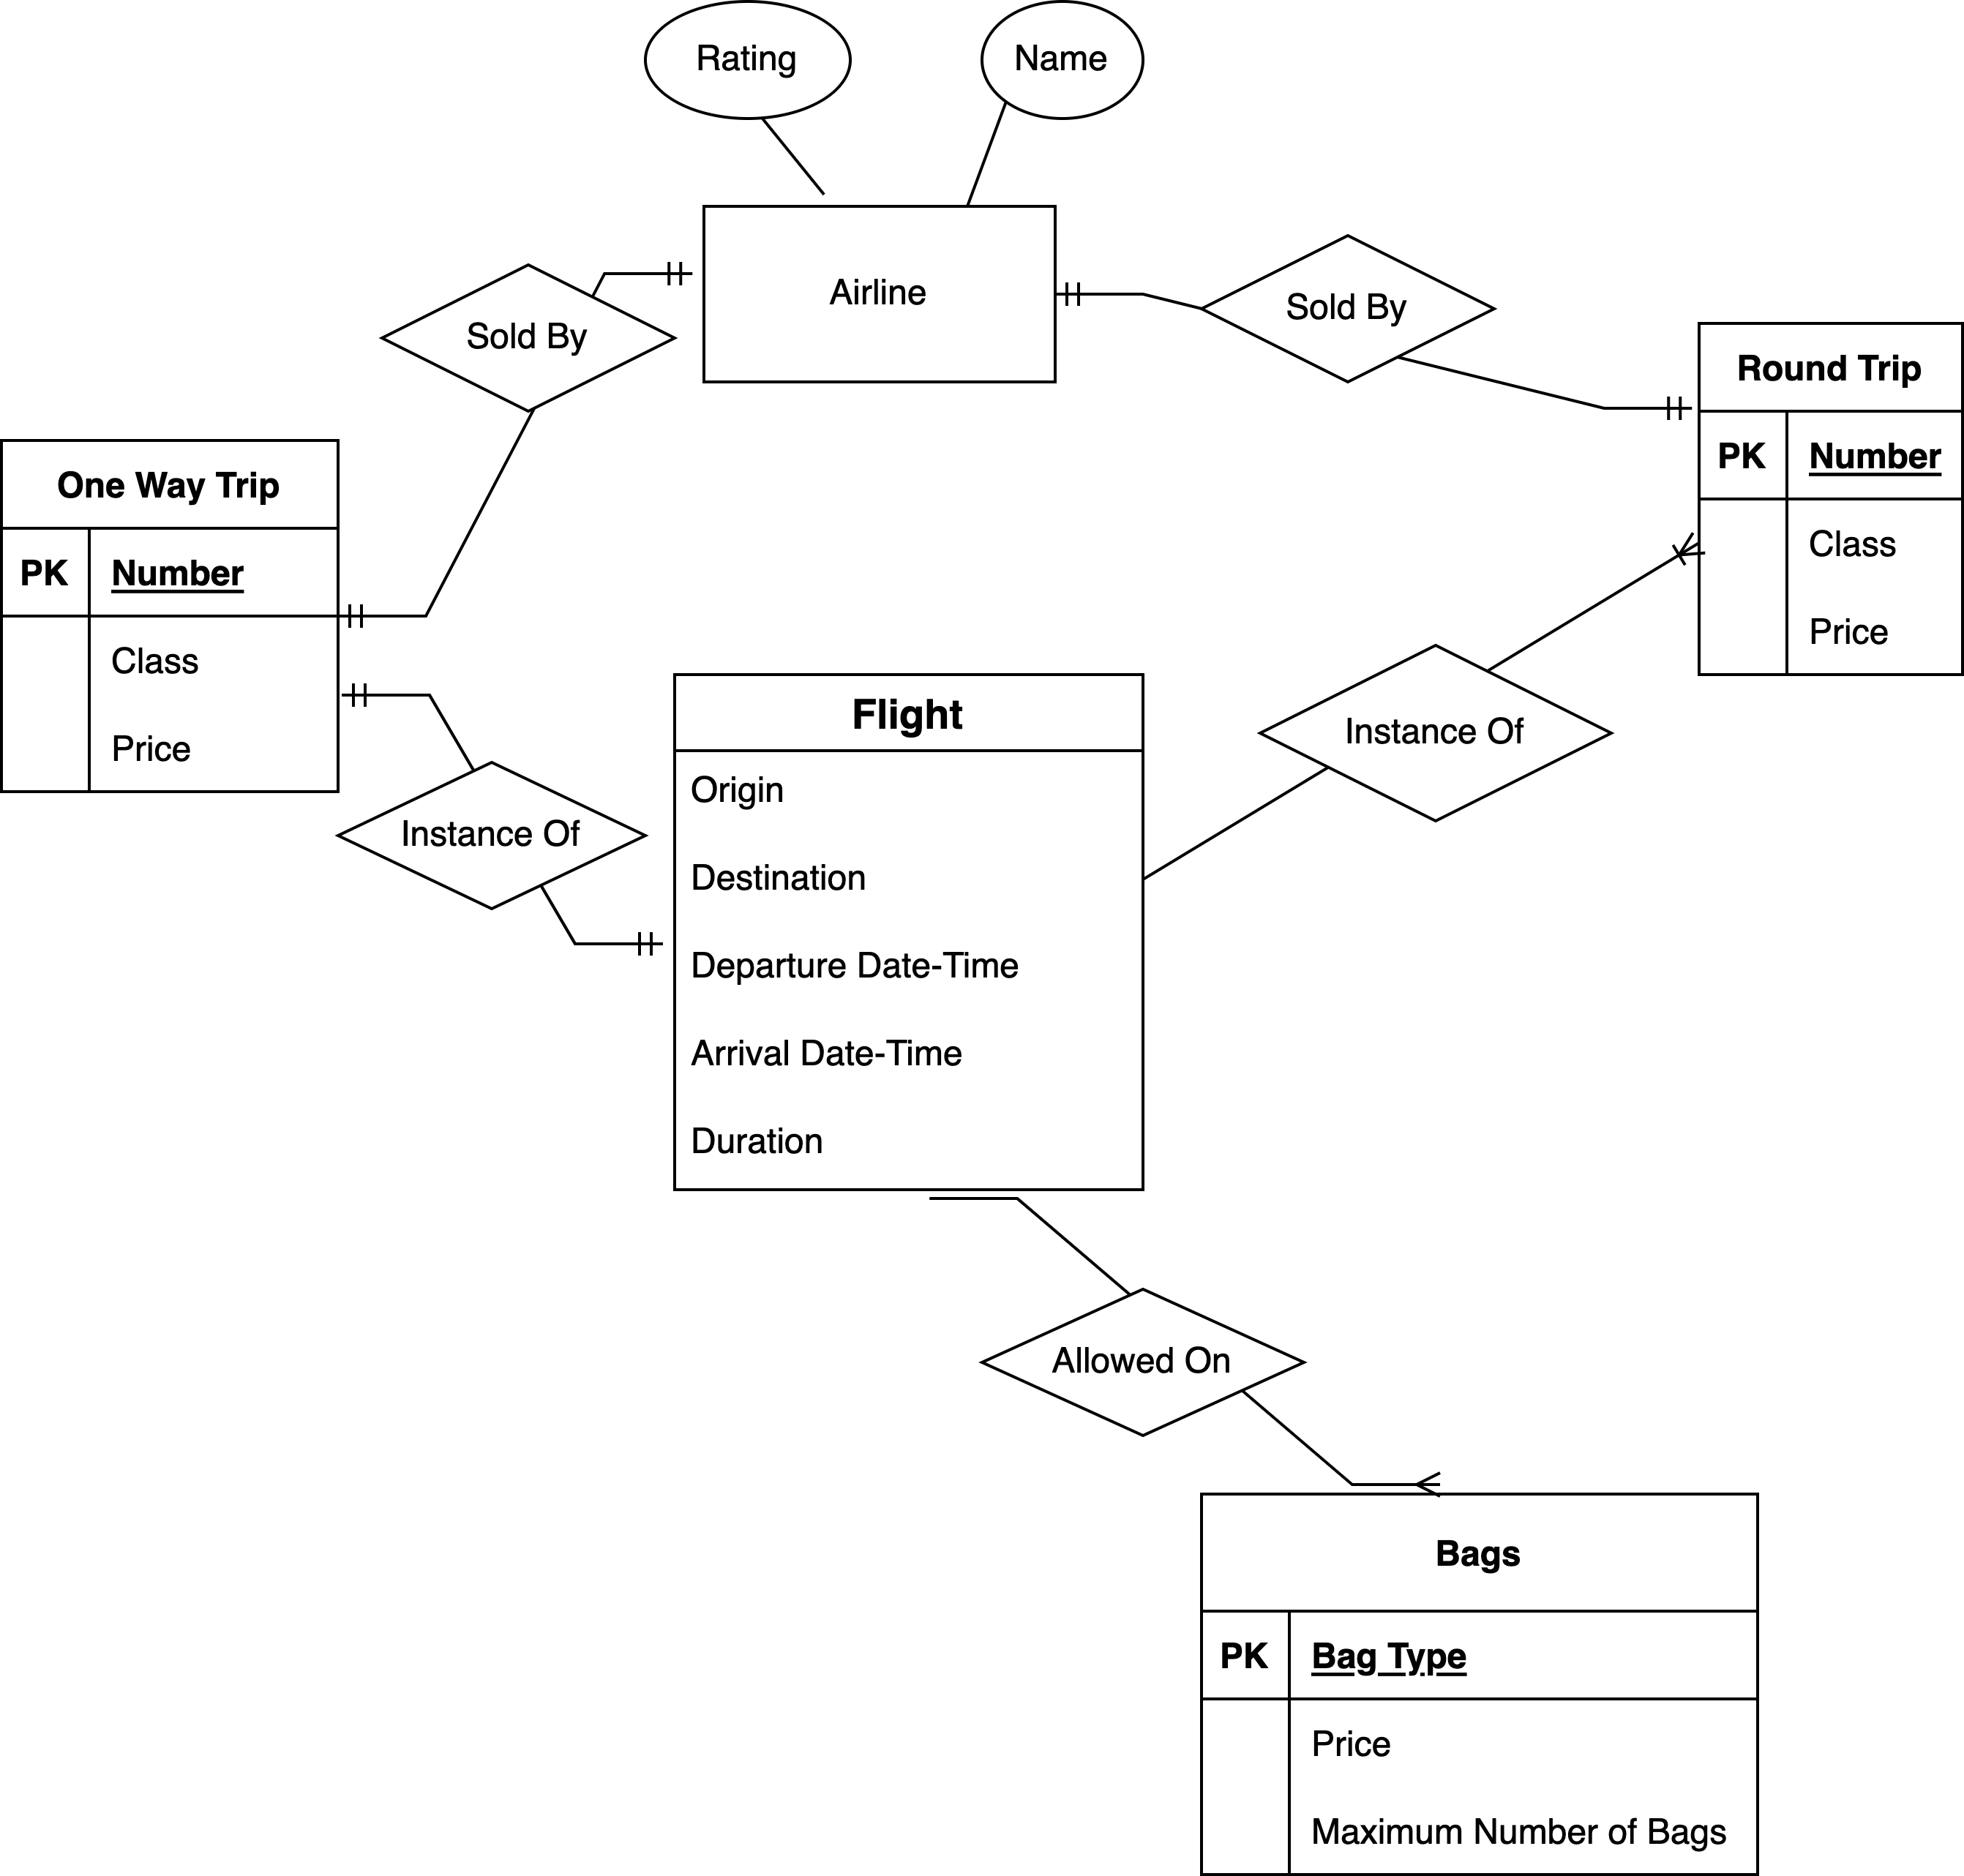entity: (675, 670, 1140, 1183), (1198, 1496, 1761, 1876), (647, 4, 1138, 407), (0, 435, 344, 794), (1701, 319, 1962, 673), (705, 205, 1056, 386)
many: (1641, 522, 1706, 584), (1380, 1452, 1461, 1496)
one: (1627, 379, 1696, 449), (333, 584, 412, 642), (337, 670, 417, 724), (1052, 268, 1121, 330), (644, 252, 705, 302), (610, 924, 677, 966)
rel: (1259, 643, 1617, 824), (975, 1290, 1308, 1438), (1199, 231, 1499, 389), (331, 764, 645, 913), (375, 265, 675, 407)
